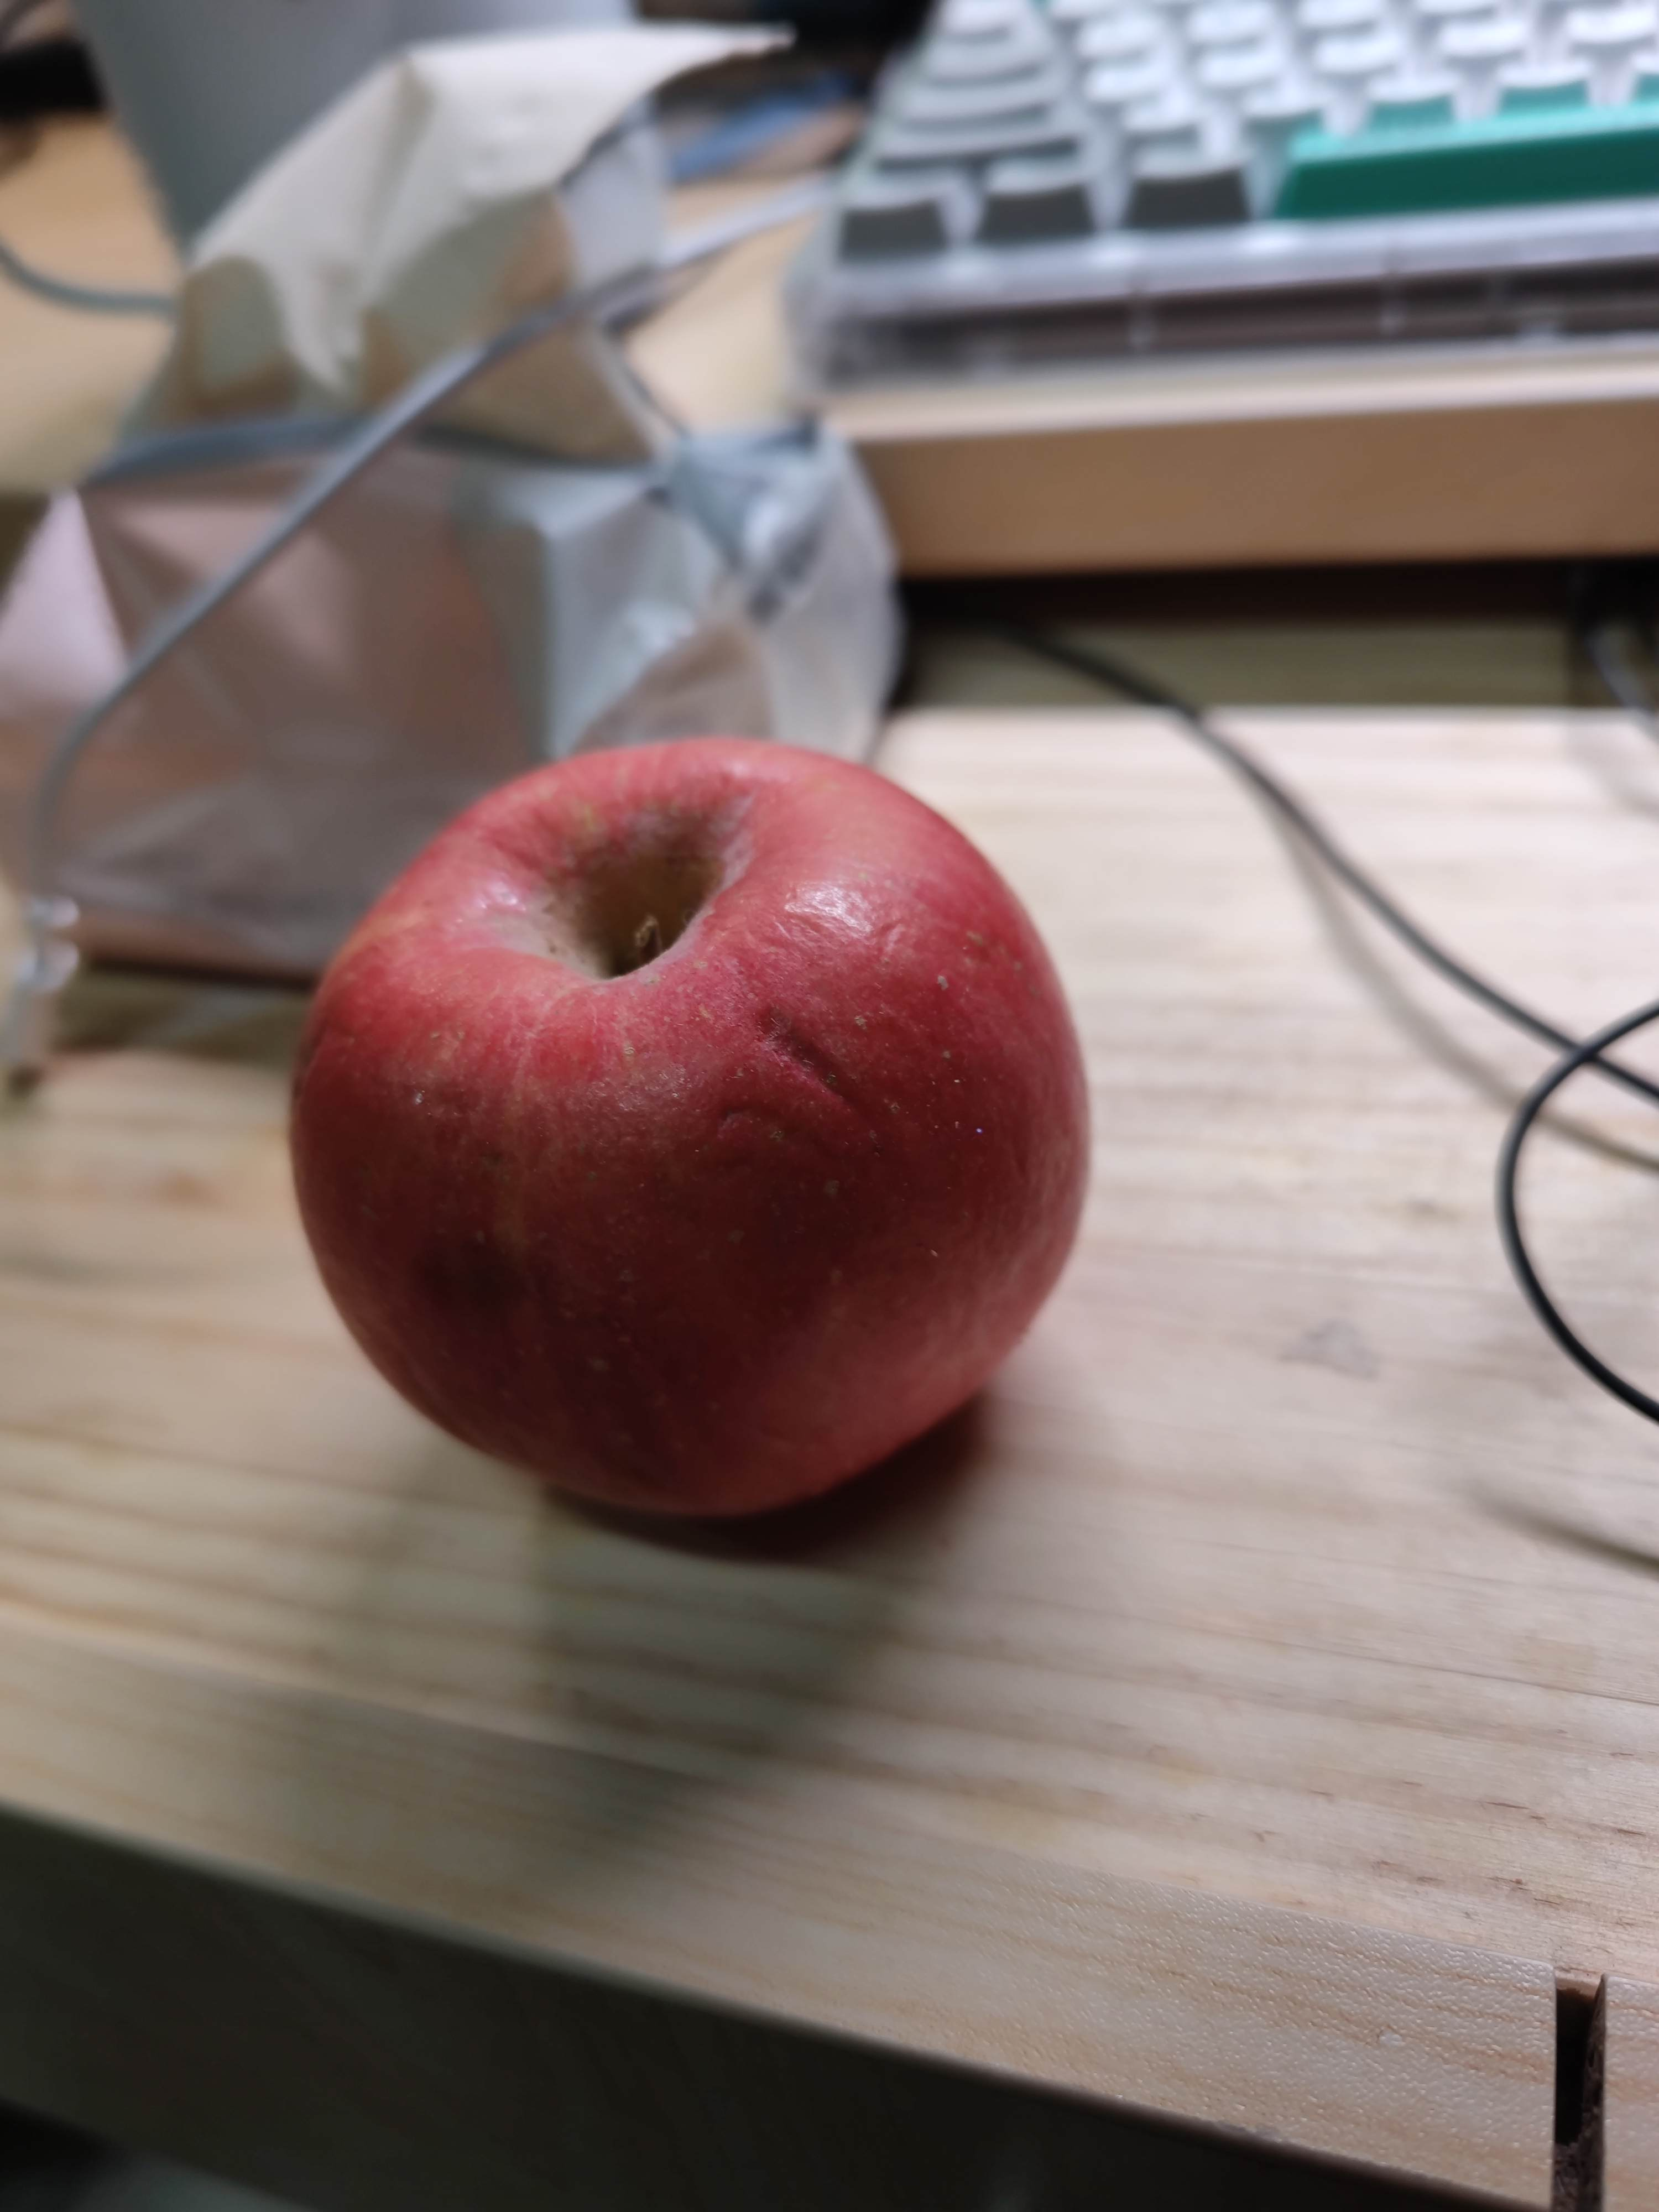apple: (281, 723, 1100, 1538)
